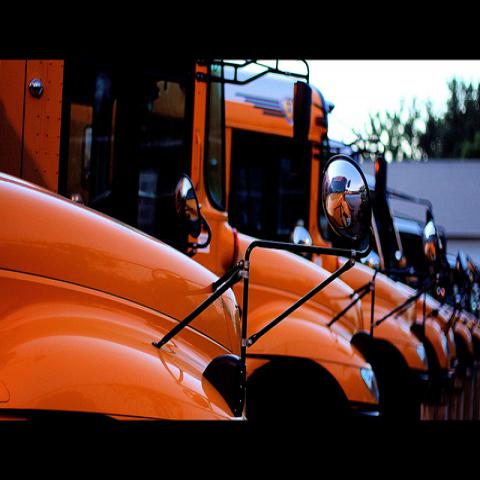bus: (2, 53, 376, 476), (225, 67, 456, 435), (335, 141, 476, 421)
